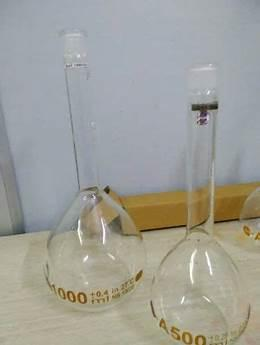Volumetric flask: (149, 36, 255, 336), (37, 22, 145, 310)
